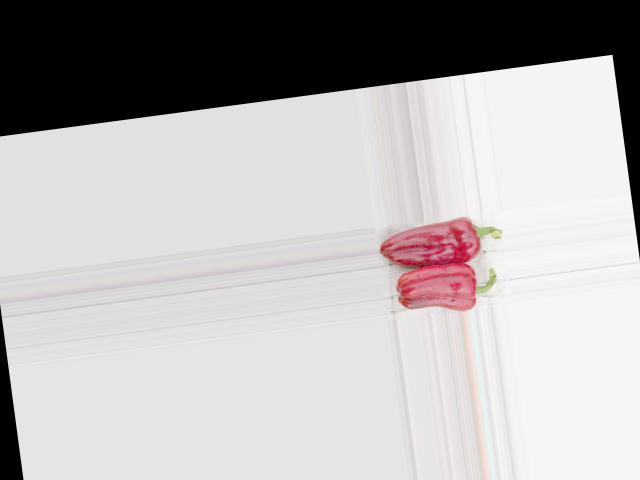bell_pepper: (376, 212, 509, 274)
